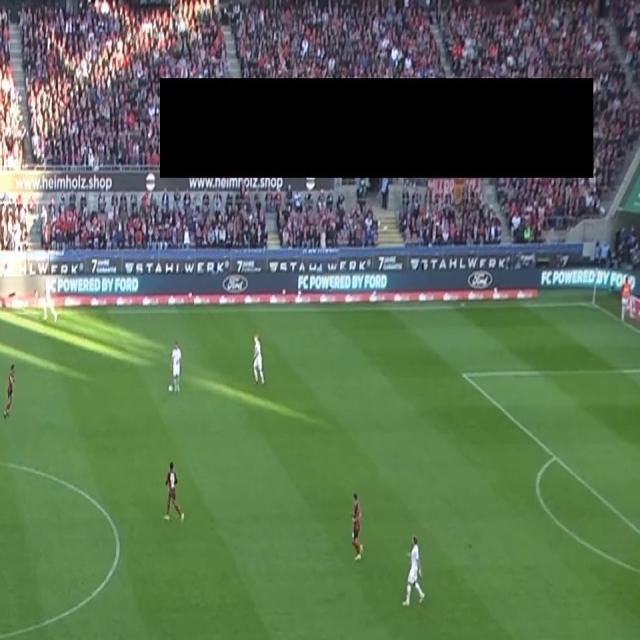ball: (168, 384, 173, 394)
